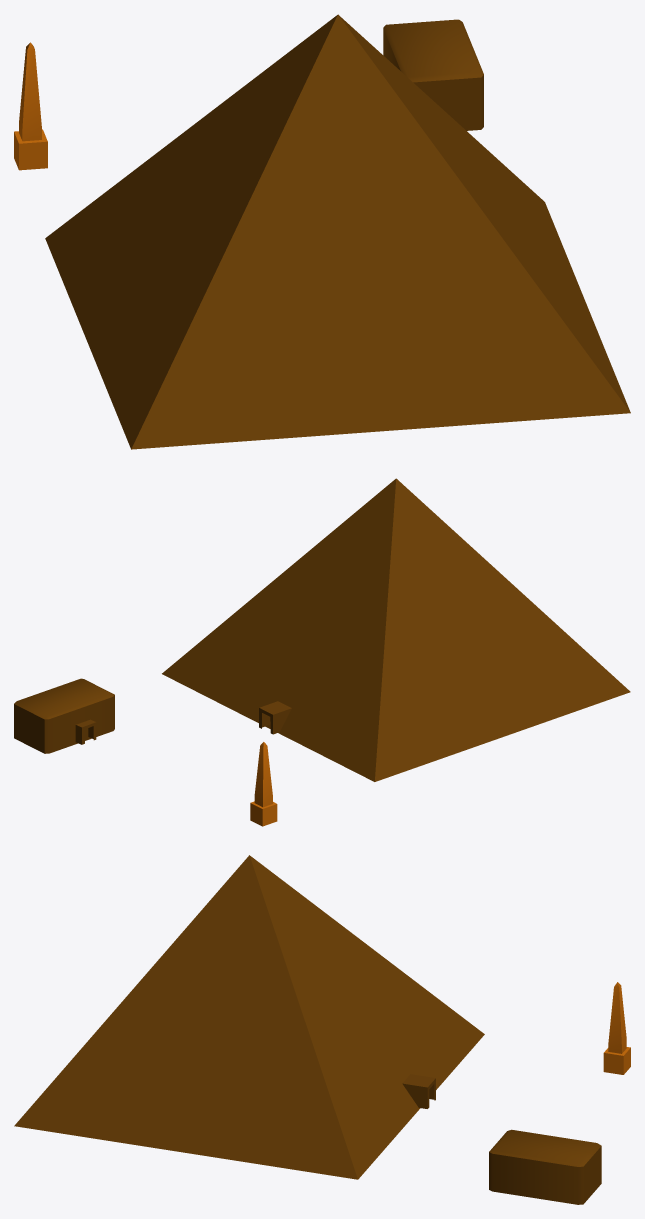
Rendered from piramida2.fbx.
3 renders of one model, top to bottom at view 1: azimuth 30°, elevation 25°; view 2: azimuth 150°, elevation 25°; view 3: azimuth 270°, elevation 25°, orthographic. The views are drawn at different scales.
Visible parts, largest first — view 1: Circle.001, Circle.1, Circle; view 2: Circle.001, Circle.1, Circle; view 3: Circle.001, Circle.1, Circle.
Part boxes in pixels (<box>): Circle.001: <box>45,14,630,449</box>; Circle.1: <box>383,19,483,130</box>; Circle: <box>14,42,47,170</box>; Circle.001: <box>162,478,630,781</box>; Circle.1: <box>14,678,114,753</box>; Circle: <box>250,742,277,826</box>; Circle.001: <box>14,855,484,1179</box>; Circle.1: <box>489,1129,601,1204</box>; Circle: <box>603,982,630,1074</box>.
Size of the model in its own units: 45.62 by 22.16 by 53.19.
